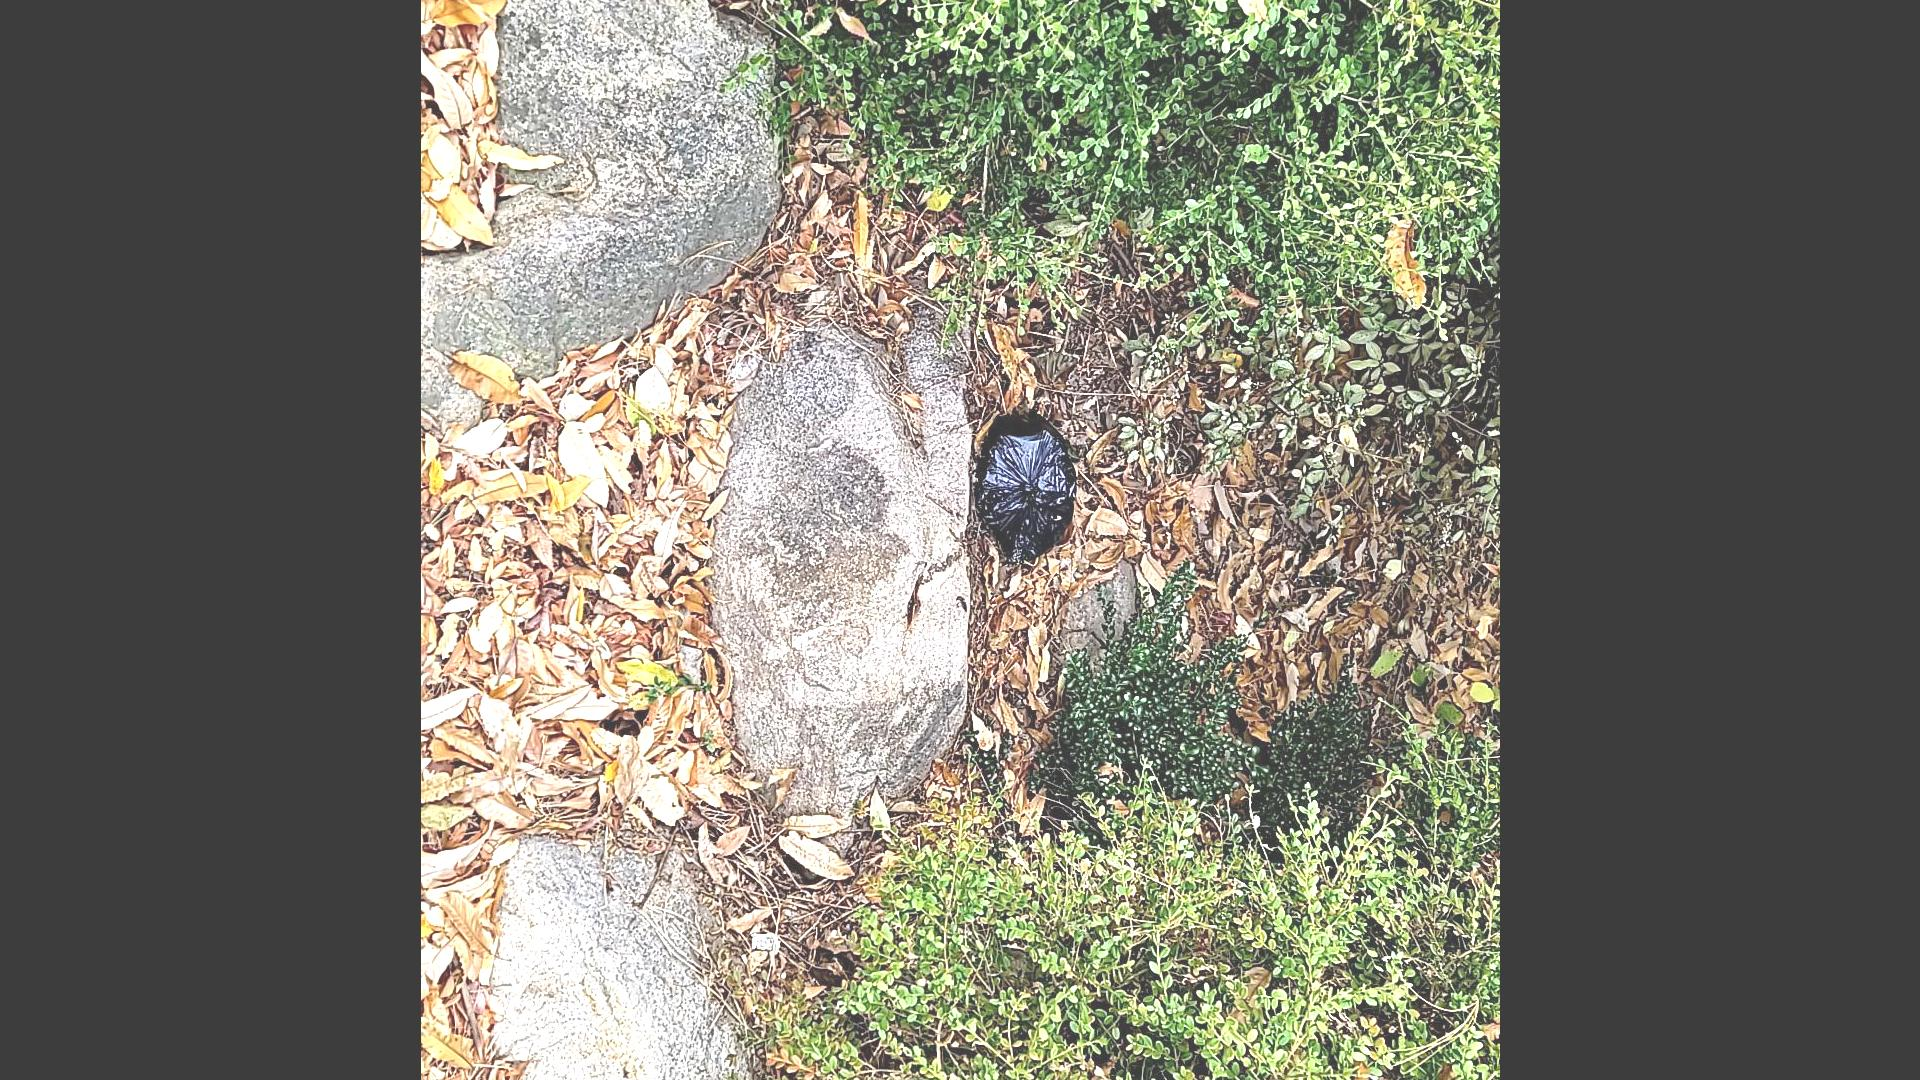black_bag: (971, 406, 1087, 583)
